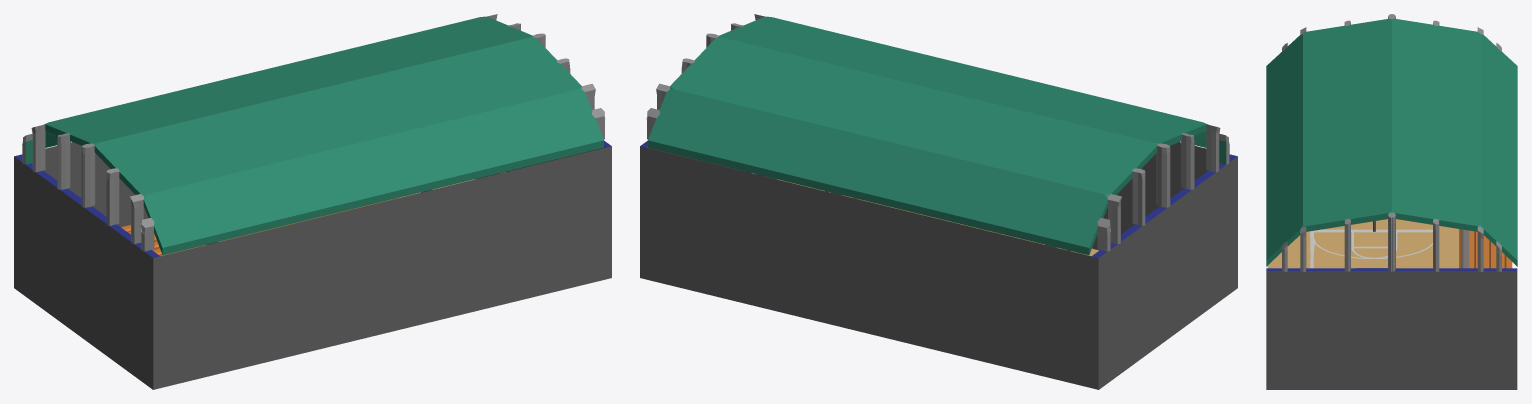
The model's file is Basketball_Court.fbx.
3 views of the same model, side by side, from view 1: azimuth 30°, elevation 25°; view 2: azimuth 150°, elevation 25°; view 3: azimuth 270°, elevation 25° (orthographic). The views are drawn at different scales.
Parts seen in each view (by area): view 1: Cube.001, Cylinder.001; view 2: Cube.001, Cylinder.001; view 3: Cylinder.001, Cube.001, Plane, Cube.
Boxes of the visible parts, x1=… form: Cube.001: x1=14, y1=140, x2=611, y2=389; Cylinder.001: x1=22, y1=14, x2=605, y2=255; Cube.001: x1=640, y1=140, x2=1237, y2=389; Cylinder.001: x1=646, y1=14, x2=1229, y2=255; Cylinder.001: x1=1266, y1=14, x2=1517, y2=272; Cube.001: x1=1266, y1=268, x2=1517, y2=389; Plane: x1=1267, y1=219, x2=1458, y2=268; Cube: x1=1459, y1=229, x2=1512, y2=268.
Bounding box in the file's own units: 6349 × 3087 × 3299.
